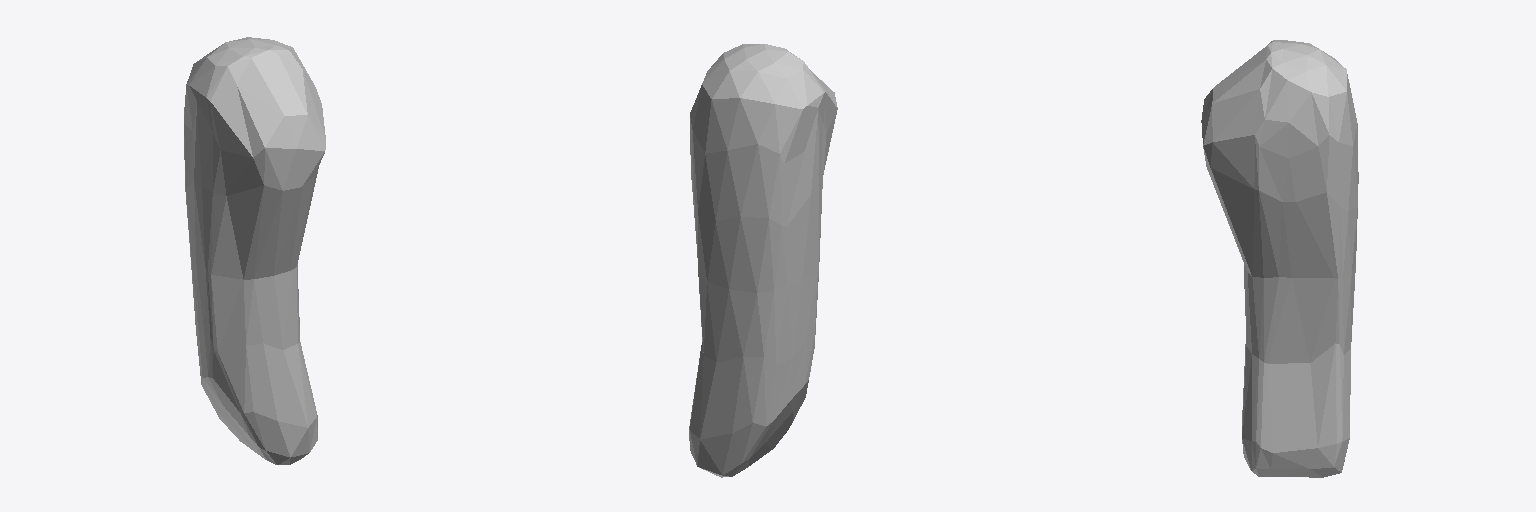
Rendered from front_left_upper_leg_collision.obj.
3 renders of one model, left to right at view 1: azimuth 30°, elevation 25°; view 2: azimuth 150°, elevation 25°; view 3: azimuth 270°, elevation 25°, orthographic.
Parts seen in each view (by area): view 1: front_left_upper_leg_collision; view 2: front_left_upper_leg_collision; view 3: front_left_upper_leg_collision.
Part boxes in pixels (x1,y1,x2,y2): front_left_upper_leg_collision: (184,37,325,464); front_left_upper_leg_collision: (689,44,837,477); front_left_upper_leg_collision: (1201,40,1358,477).
Size of the model in its own units: 0.1208 by 0.4378 by 0.1505.